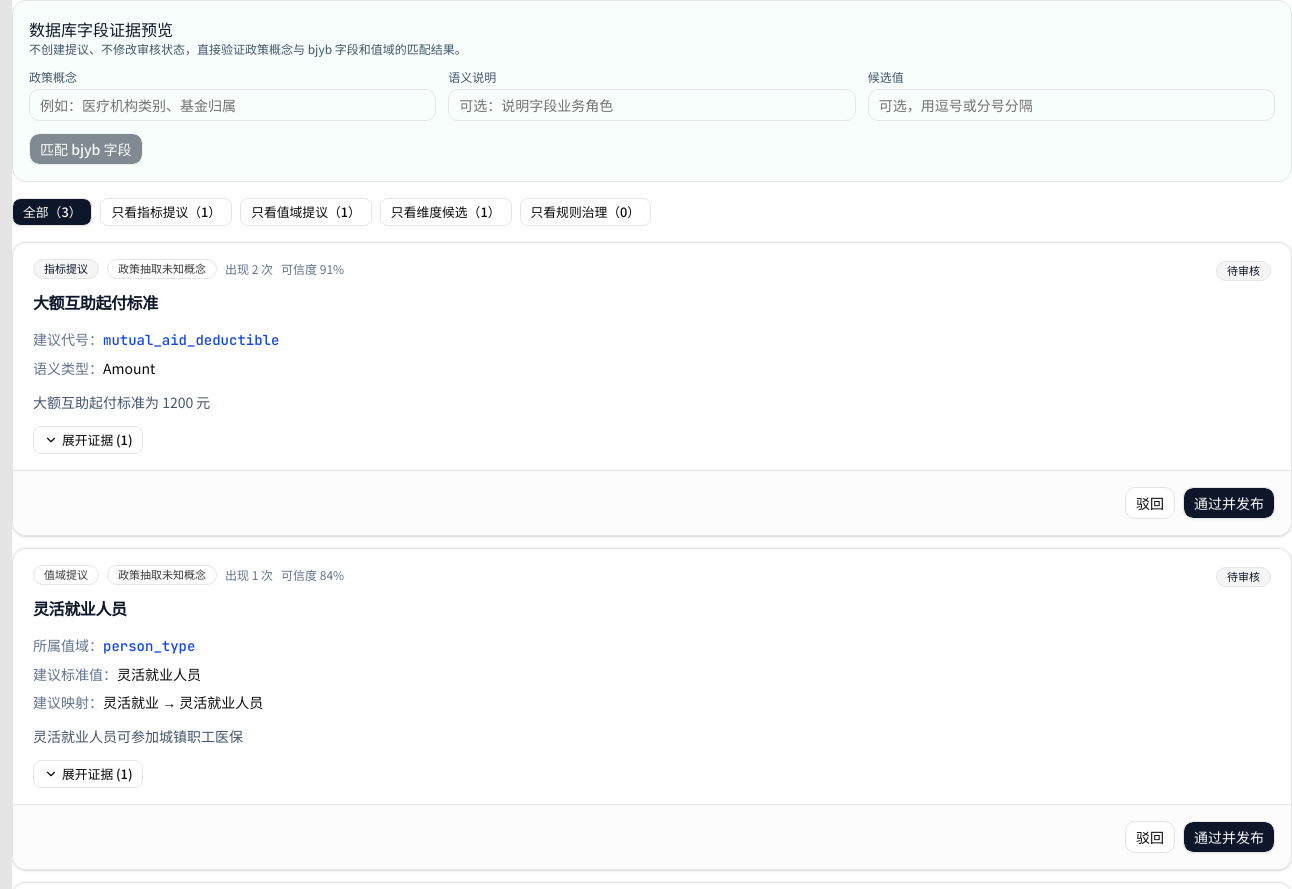
Test case: SemanticProposalsPage › marks a proposed item as reviewing when evidence is expanded
Click the button with aria-label "展开 mutual_aid_deductible 证据" at (88, 440), box 33,426 -> 144,454
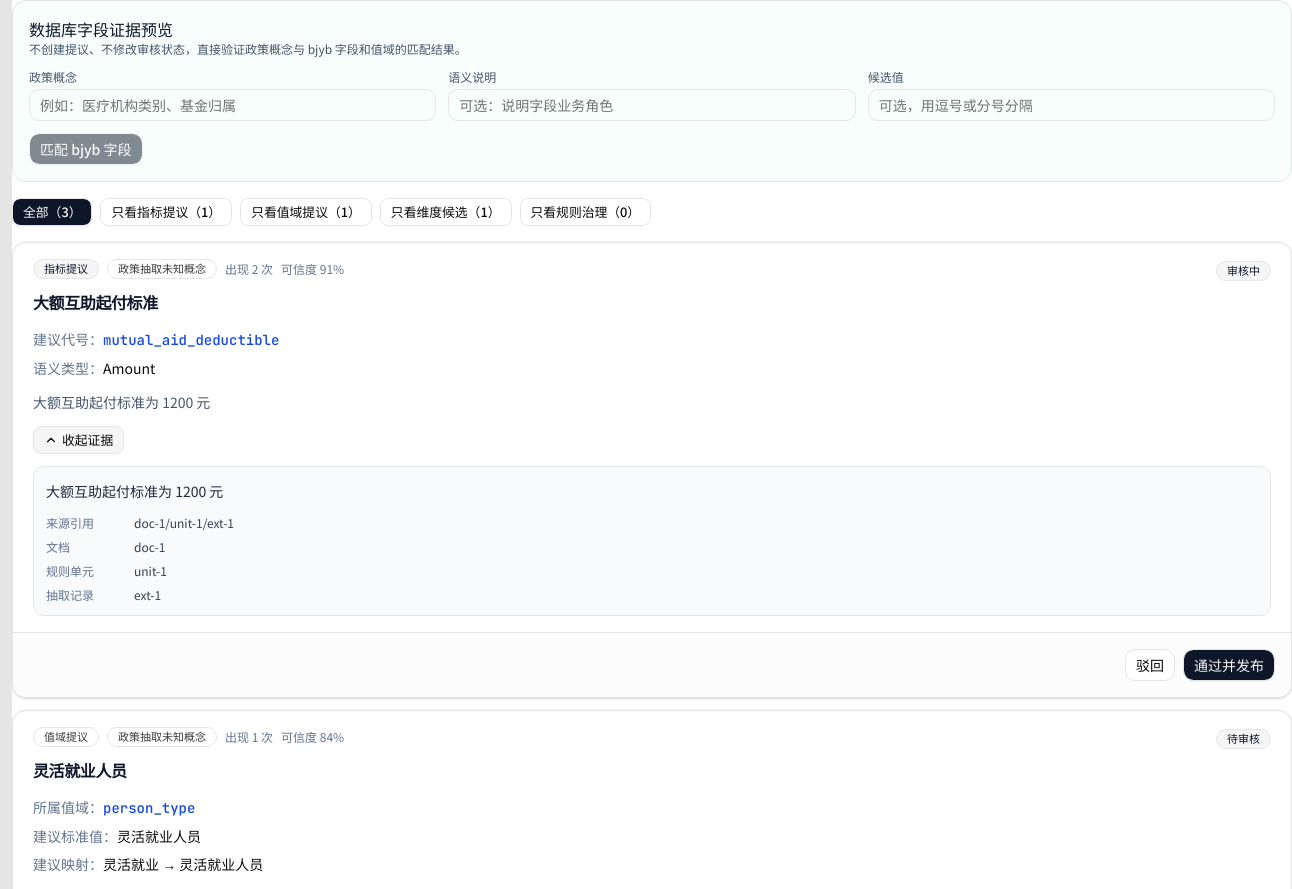
Check: the text "大额互助起付标准为 1200 元" is shown 2 times, box 33,392 -> 210,412; 46,481 -> 223,501
Check: the text "doc-1" is shown, box 134,538 -> 165,555
Check: the icon "审核中" is shown, box 1216,261 -> 1271,281
